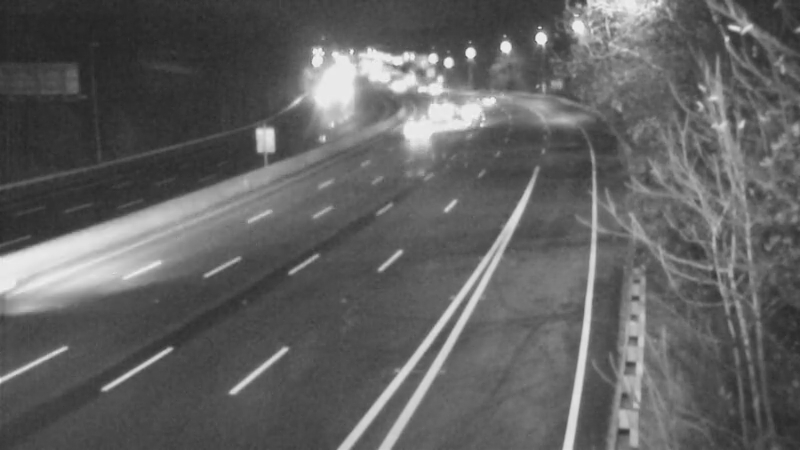vehicle: (464, 71, 514, 121), (449, 79, 499, 129), (421, 84, 471, 134), (434, 95, 484, 145), (395, 99, 445, 149), (300, 68, 350, 118)
